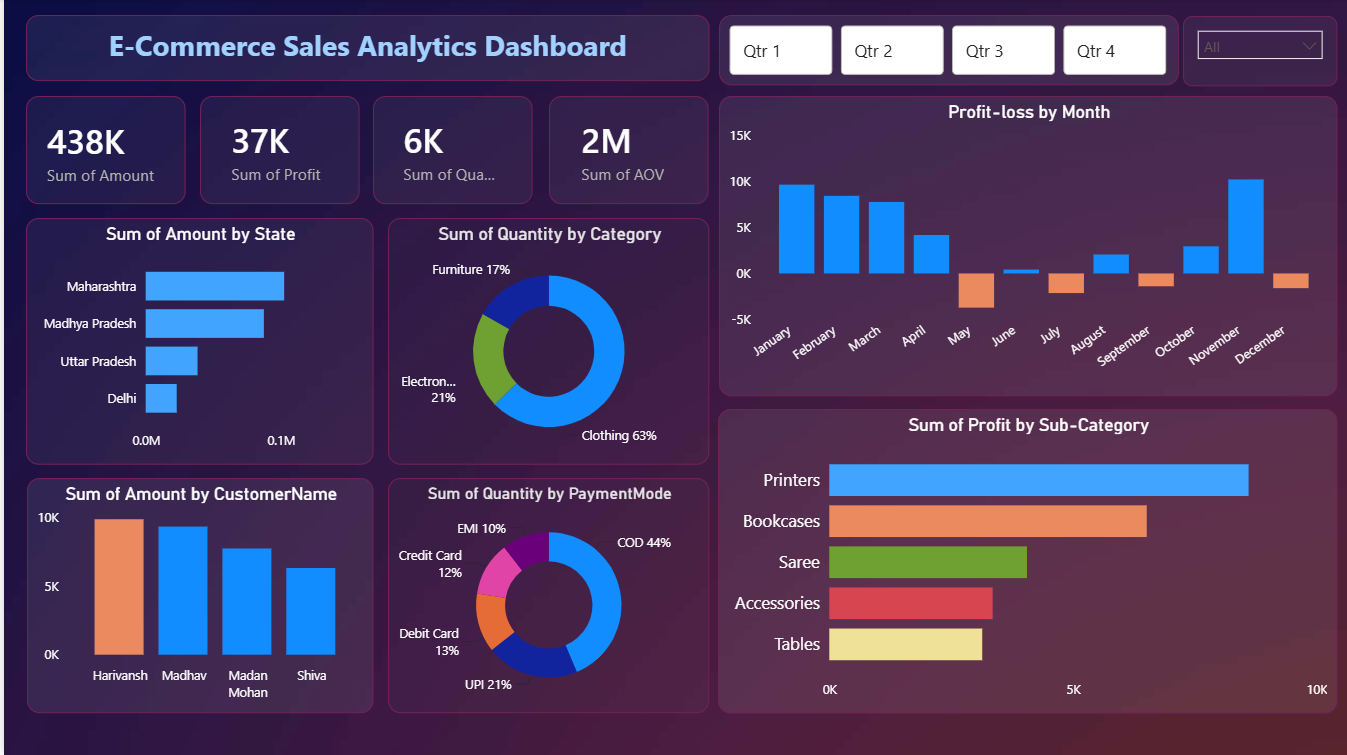

This screenshot's page, from the dashboard's own definition file:
{"tool":"powerbi","page":{"name":"Page 1","canvas":[1280,720],"ordinal":0},"visuals":[{"type":"columnChart","title":"Profit-loss by Month","fields":{"Y":["Sum(Details.Profit)"],"Category":["Orders.Order Date.Variation.Date Hierarchy.Month"]},"box":[681.2,92,589.2,285.7],"z":0},{"type":"textbox","box":[20.6,15.1,651,63.2],"z":1000},{"type":"barChart","fields":{"Category":["Details.Sub-Category"],"Y":["Sum(Details.Profit)"]},"box":[680,390,590,290],"z":2000},{"type":"barChart","fields":{"Category":["Orders.State"],"Y":["Sum(Details.Amount)"]},"box":[20.6,208.8,331,234.8],"z":3000},{"type":"donutChart","fields":{"Y":["Sum(Details.Quantity)"],"Category":["Details.Category"]},"box":[365.3,208.8,306.3,234.8],"z":4000},{"type":"donutChart","fields":{"Y":["Sum(Details.Quantity)"],"Category":["Details.PaymentMode"]},"box":[365.3,456,306.3,223.9],"z":5000},{"type":"columnChart","title":"Sum of Amount by CustomerName","fields":{"Y":["Sum(Details.Amount)"],"Category":["Orders.CustomerName"]},"box":[21.4,455.7,330,224.3],"z":6000},{"type":"cardVisual","fields":{"Data":["Sum(Details.Amount)"]},"box":[20.6,92,152.4,103],"z":7000},{"type":"cardVisual","fields":{"Data":["Sum(Details.Profit)"]},"box":[186.8,92,152.4,103],"z":8000},{"type":"cardVisual","fields":{"Data":["Sum(Details.Quantity)"]},"box":[351.6,92,152.4,103],"z":9000},{"type":"cardVisual","fields":{"Data":["Sum(Details.AOV)"]},"box":[519.1,92,152.4,103],"z":10000},{"type":"advancedSlicerVisual","fields":{"Values":["Orders.Order Date.Variation.Date Hierarchy.Quarter"]},"box":[681.2,15.1,438.1,67.3],"z":11000},{"type":"slicer","fields":{"Values":["Orders.State"]},"box":[1122.9,15.7,147.1,67.1],"z":12001}]}

Visuals, with their boxes in screenshot pixels (x1, y1, x2, y2), scaled from the page's 1280x720 canvas onto the 1347x755 screenshot:
"Profit-loss by Month" columnChart: [x1=717, y1=96, x2=1337, y2=396]
textbox: [x1=22, y1=16, x2=707, y2=82]
barChart - Details.Sub-Category x Sum(Details.Profit): [x1=716, y1=409, x2=1336, y2=713]
barChart - Orders.State x Sum(Details.Amount): [x1=22, y1=219, x2=370, y2=465]
donutChart - Sum(Details.Quantity) x Details.Category: [x1=384, y1=219, x2=707, y2=465]
donutChart - Sum(Details.Quantity) x Details.PaymentMode: [x1=384, y1=478, x2=707, y2=713]
"Sum of Amount by CustomerName" columnChart: [x1=23, y1=478, x2=370, y2=713]
cardVisual - Sum(Details.Amount): [x1=22, y1=96, x2=182, y2=204]
cardVisual - Sum(Details.Profit): [x1=197, y1=96, x2=357, y2=204]
cardVisual - Sum(Details.Quantity): [x1=370, y1=96, x2=530, y2=204]
cardVisual - Sum(Details.AOV): [x1=546, y1=96, x2=707, y2=204]
advancedSlicerVisual - Orders.Order Date.Variation.Date Hierarchy.Quarter: [x1=717, y1=16, x2=1178, y2=86]
slicer - Orders.State: [x1=1182, y1=16, x2=1336, y2=87]
